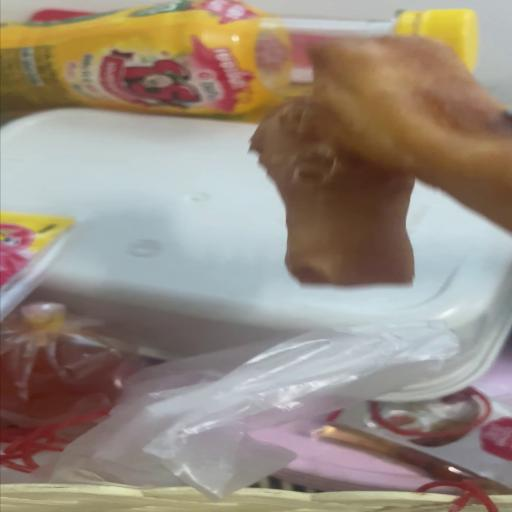street_burnt_defect: (246, 33, 511, 285)
